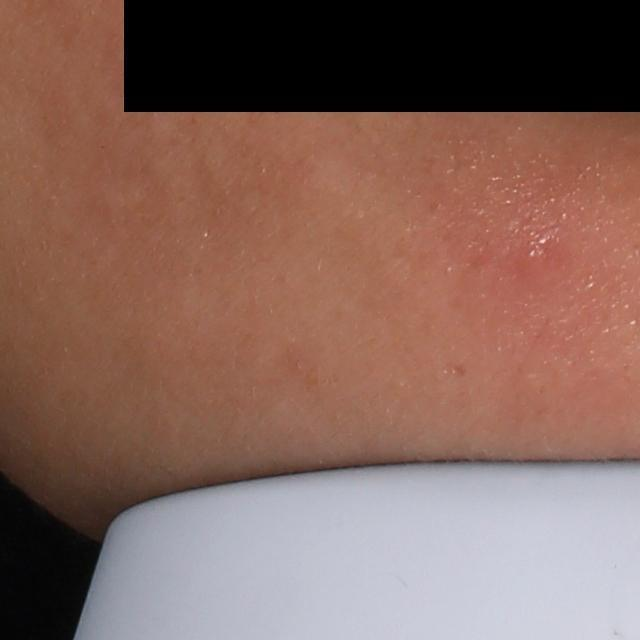papule: (512, 237, 556, 280)
